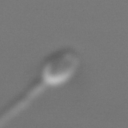normal: (2, 81, 43, 125)
